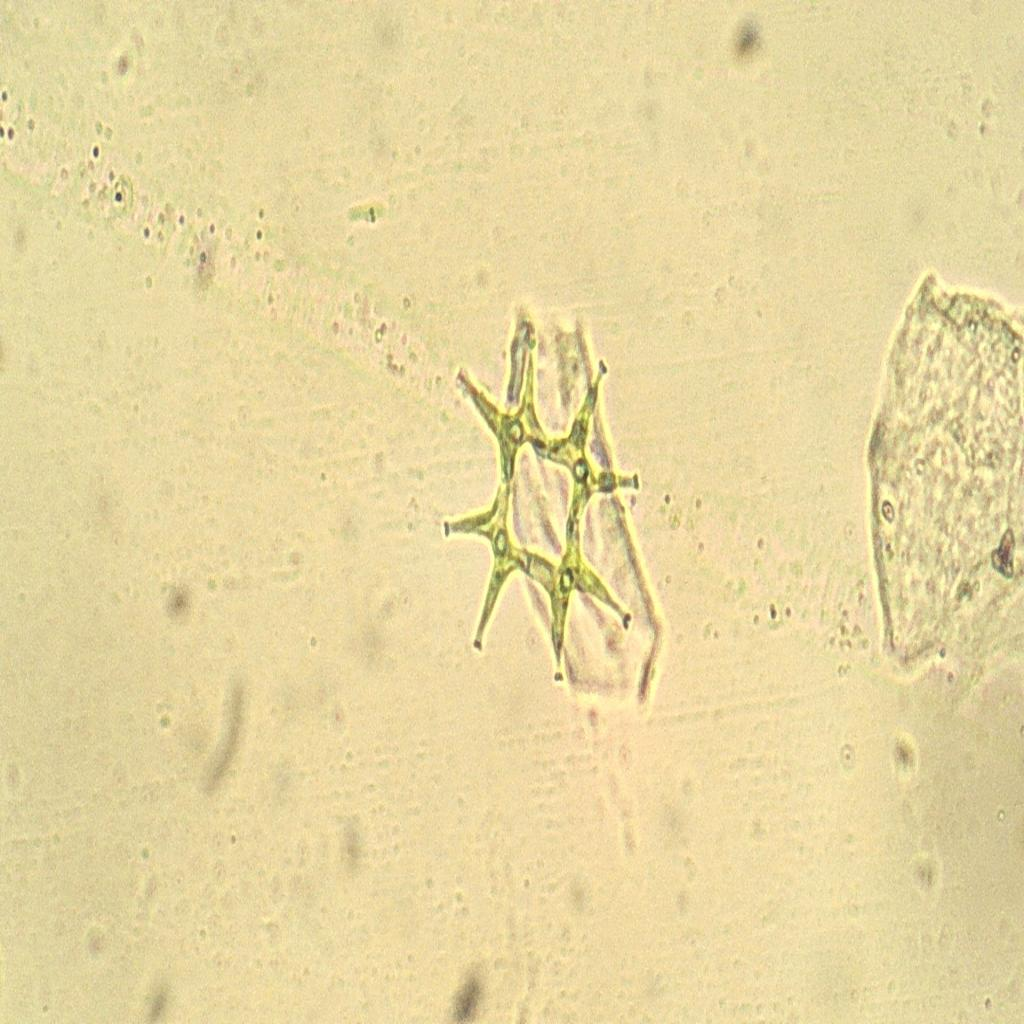Pediastrum_75O: (429, 290, 651, 735)
